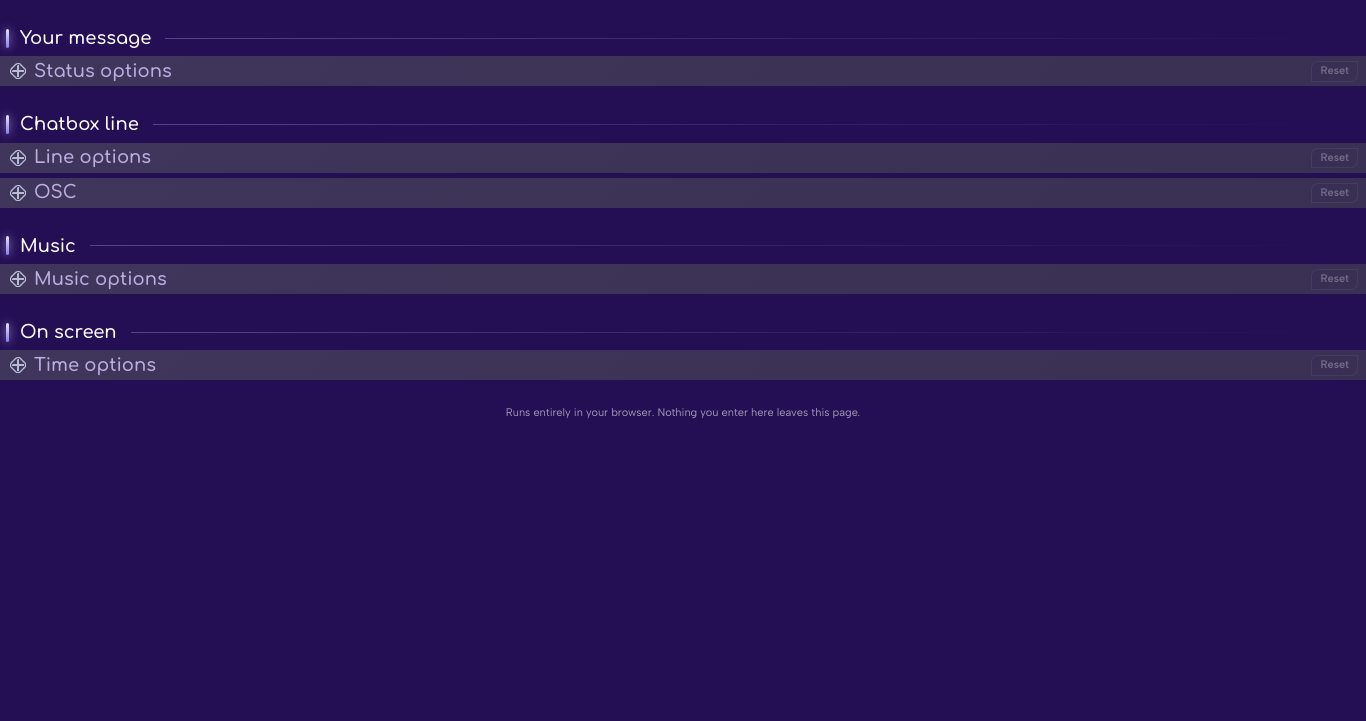
Test case: OptionsPage › Reset restores the default template
Click the button "Music options" at (93, 279), box left=0, top=264, right=187, bottom=294
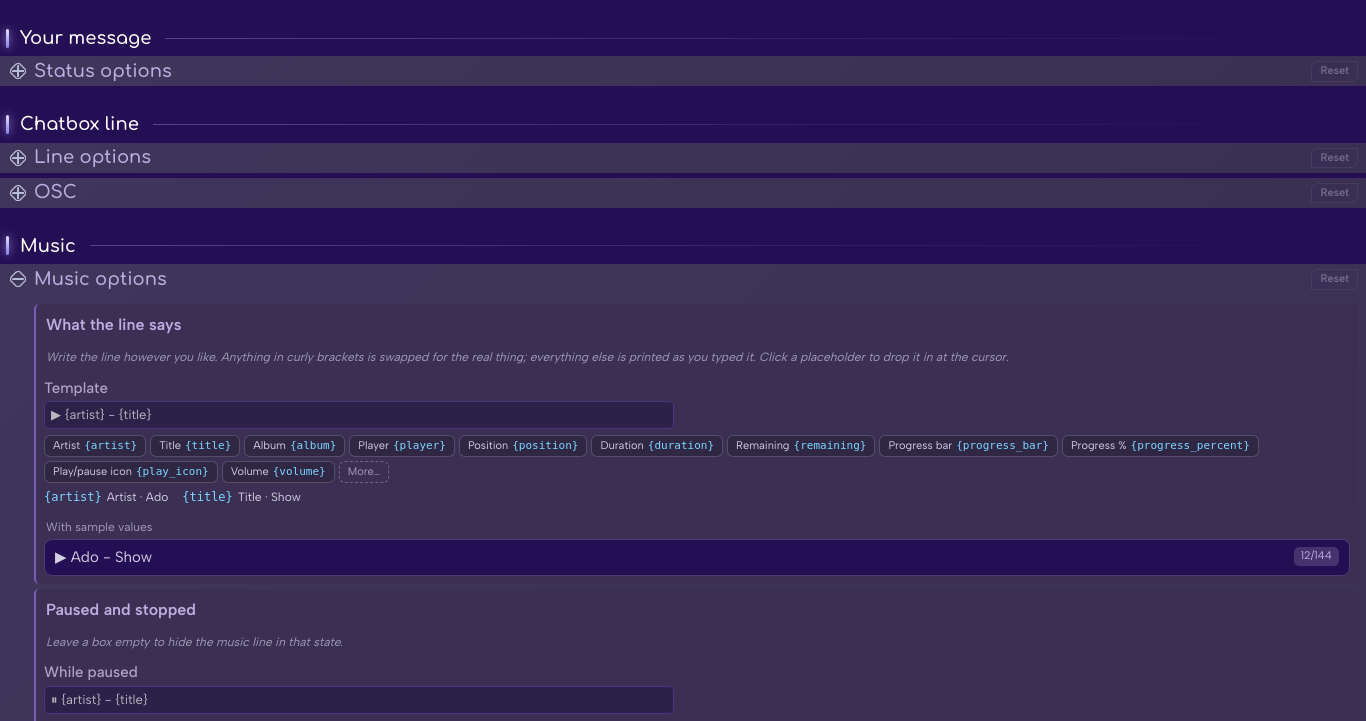
Replace the text in the field labelled "Template" with "changed" at (359, 415), box left=44, top=401, right=674, bottom=429
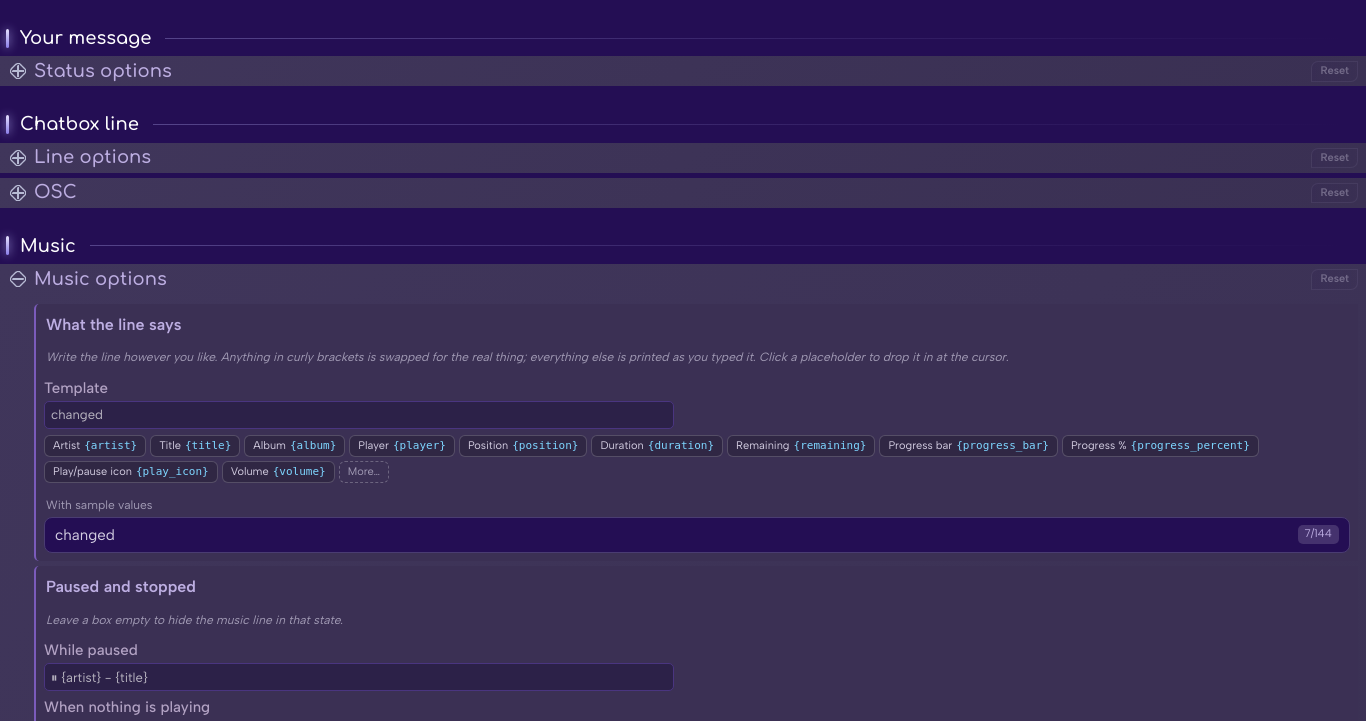
Click the button with aria-label "Reset Music options" at (1335, 279), box left=1311, top=269, right=1358, bottom=290
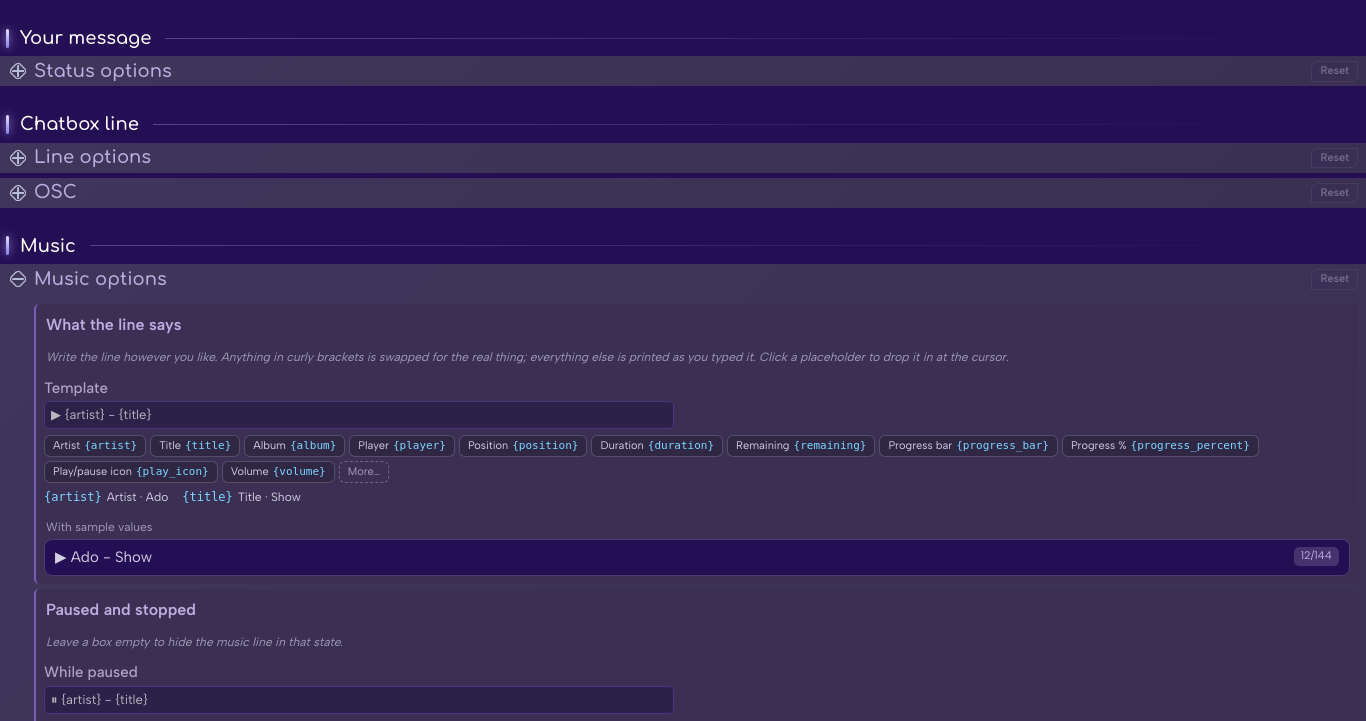
Result: the field labelled "Template" holds "▶ {artist} - {title}" at left=44, top=401, right=674, bottom=429
